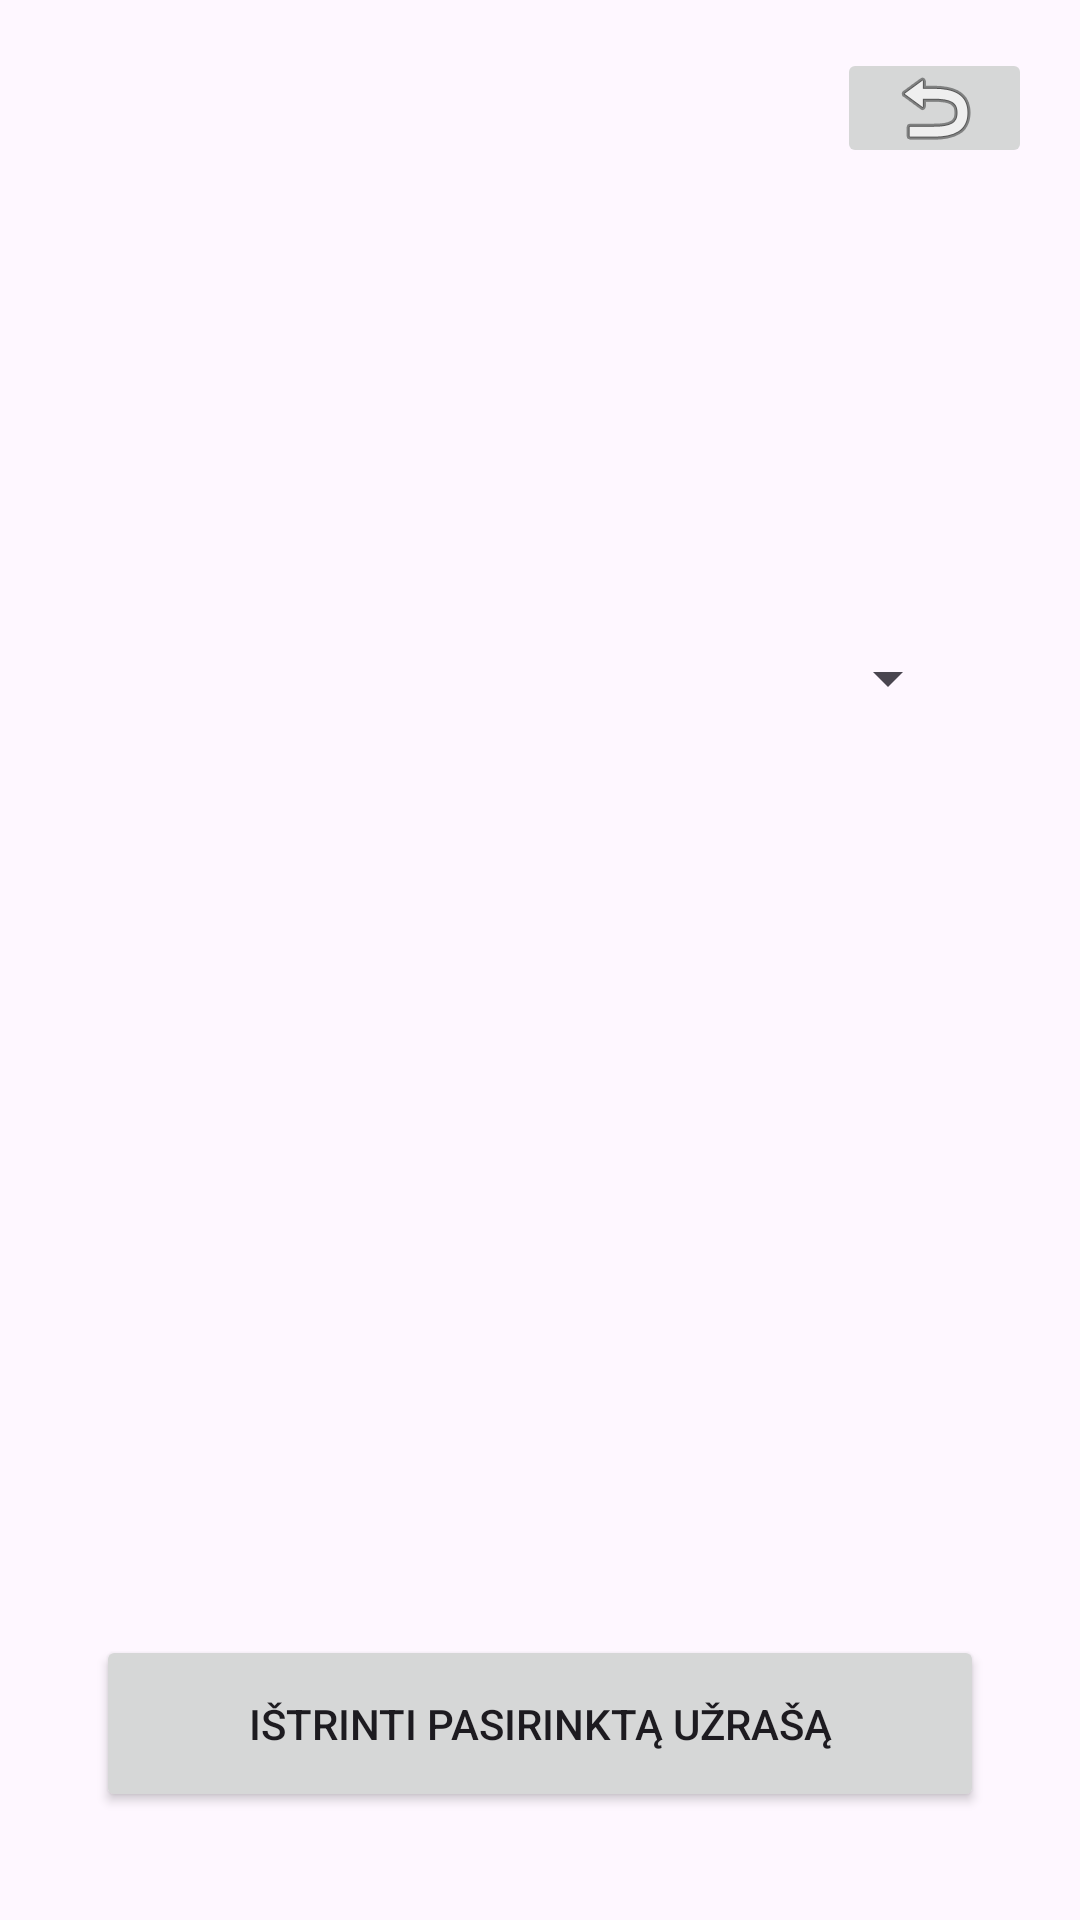

Where to tap for icons on this 1080px x 1920px app screen, as [x,y]:
revert: [934,108]
